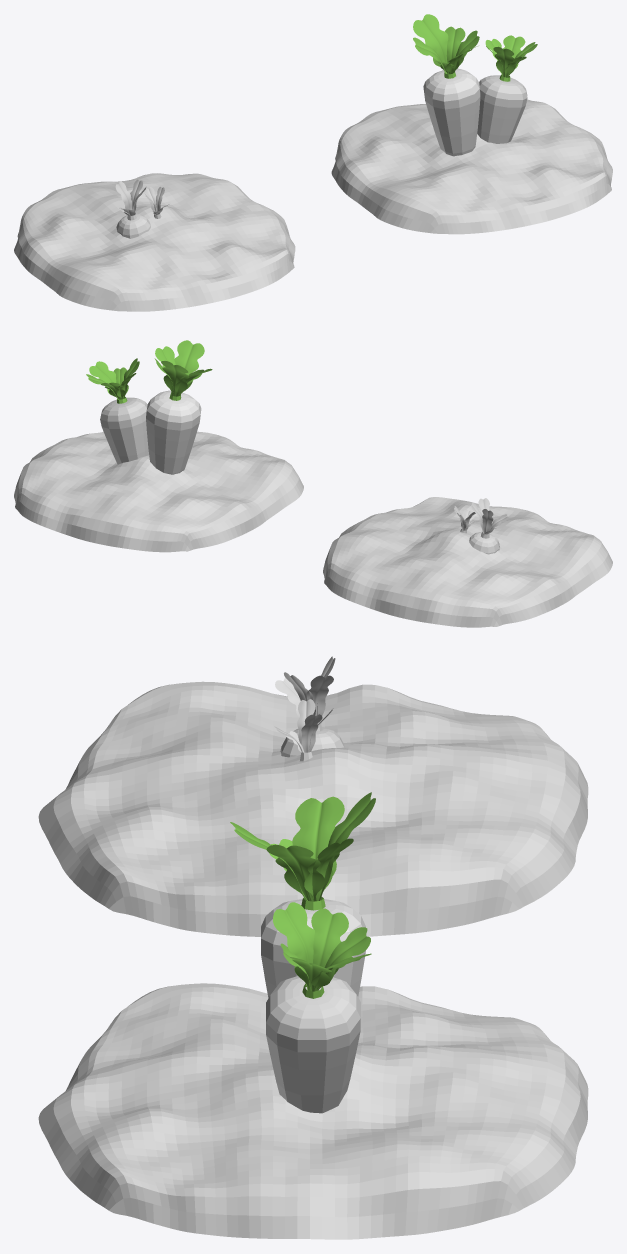
The model's file is carrot.fbx.
3 views of the same model, one above another, from view 1: azimuth 30°, elevation 25°; view 2: azimuth 150°, elevation 25°; view 3: azimuth 270°, elevation 25° (orthographic). The views are drawn at different scales.
Parts seen in each view (by area): view 1: soil.001, soil, carrot_body, carrot_body.001, Plane, carrot_body.002, Plane.001, Plane.011; view 2: soil.001, soil, carrot_body, carrot_body.001, Plane.003, Plane, carrot_body.002, Plane.009; view 3: soil, soil.001, carrot_body.001, carrot_body, Plane.005, Plane.002, Plane.011, Plane.006, Plane, Plane.007, Plane.001, carrot_body.002.
Boxes of the visible parts, box(x1,y1,x2,y2) form: soil.001: box(14, 173, 295, 311); soil: box(331, 99, 612, 234); carrot_body: box(423, 68, 480, 156); carrot_body.001: box(477, 75, 527, 143); Plane: box(413, 14, 448, 73); carrot_body.002: box(116, 213, 150, 238); Plane.001: box(445, 26, 465, 63); Plane.011: box(493, 46, 514, 77); soil.001: box(323, 497, 612, 627); soil: box(14, 431, 303, 552); carrot_body: box(146, 390, 201, 474); carrot_body.001: box(100, 397, 148, 464); Plane.003: box(174, 340, 204, 382); Plane: box(161, 361, 188, 396); carrot_body.002: box(469, 531, 499, 554); Plane.009: box(89, 361, 118, 399); soil: box(38, 983, 588, 1239); soil.001: box(38, 681, 588, 936); carrot_body.001: box(266, 976, 360, 1113); carrot_body: box(261, 899, 365, 997); Plane.005: box(292, 796, 344, 900); Plane.002: box(266, 844, 325, 901); Plane.011: box(273, 902, 314, 990); Plane.006: box(311, 908, 348, 967); Plane: box(318, 792, 375, 900); Plane.007: box(317, 927, 370, 990); Plane.001: box(304, 838, 353, 901); carrot_body.002: box(280, 727, 344, 757).
Bounding box in the file's own units: 207 × 54.67 × 89.57.
